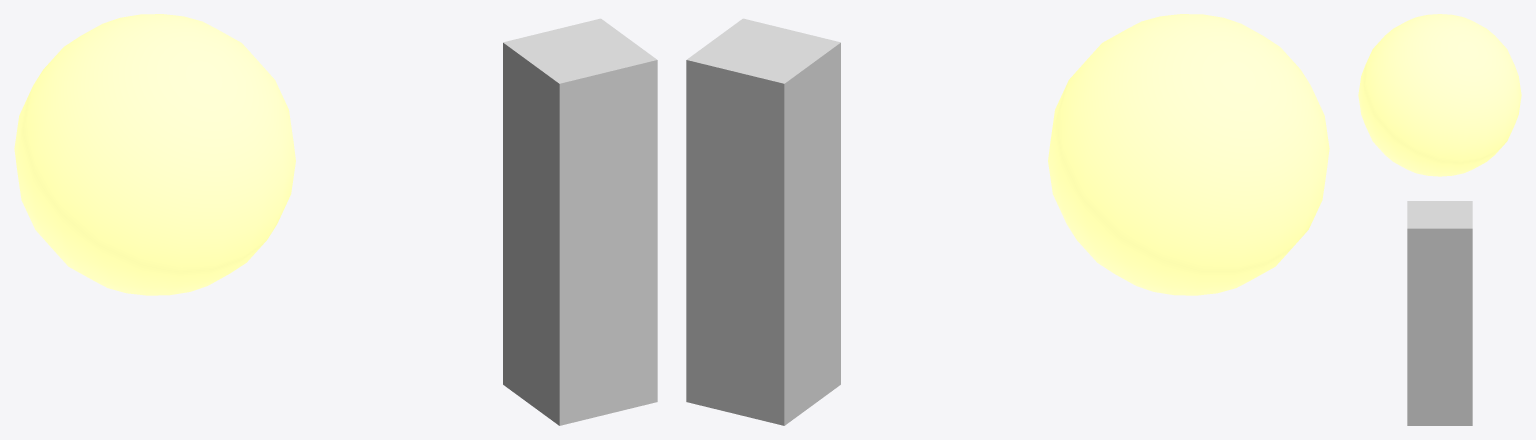
File: emissive.gltf
The picture shows the model from 3 angles, left to right: view 1: azimuth 30°, elevation 25°; view 2: azimuth 150°, elevation 25°; view 3: azimuth 270°, elevation 25°; orthographic projection. The views are drawn at different scales.
Parts seen in each view (by area): view 1: orb, blocker; view 2: orb, blocker; view 3: orb, blocker.
Boxes of the visible parts, x1,y1,x2,y2 form: orb: [14, 14, 295, 295]; blocker: [503, 18, 657, 425]; orb: [1048, 14, 1329, 295]; blocker: [686, 18, 840, 425]; orb: [1358, 14, 1521, 176]; blocker: [1407, 201, 1472, 425].
Size of what is drawn, in the model's own units: 3.65 by 2.75 by 1.5.
